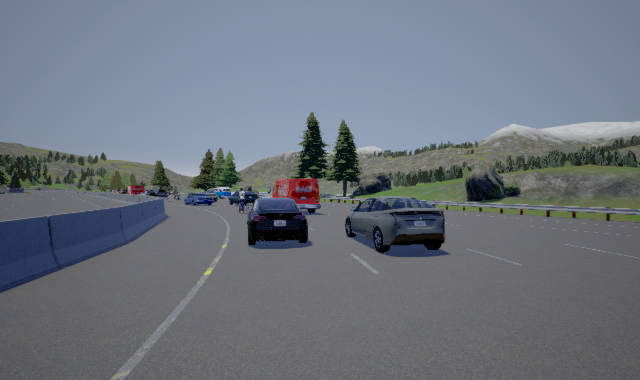bike: (236, 187, 247, 213)
vehicle: (345, 196, 445, 253), (247, 195, 309, 245), (268, 177, 322, 215), (228, 189, 261, 203), (184, 193, 217, 206)
